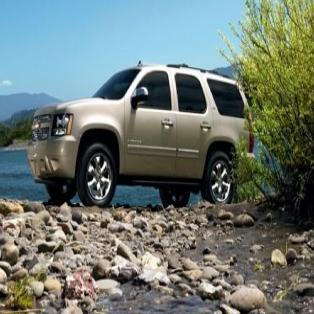Auto: (25, 61, 256, 207)
